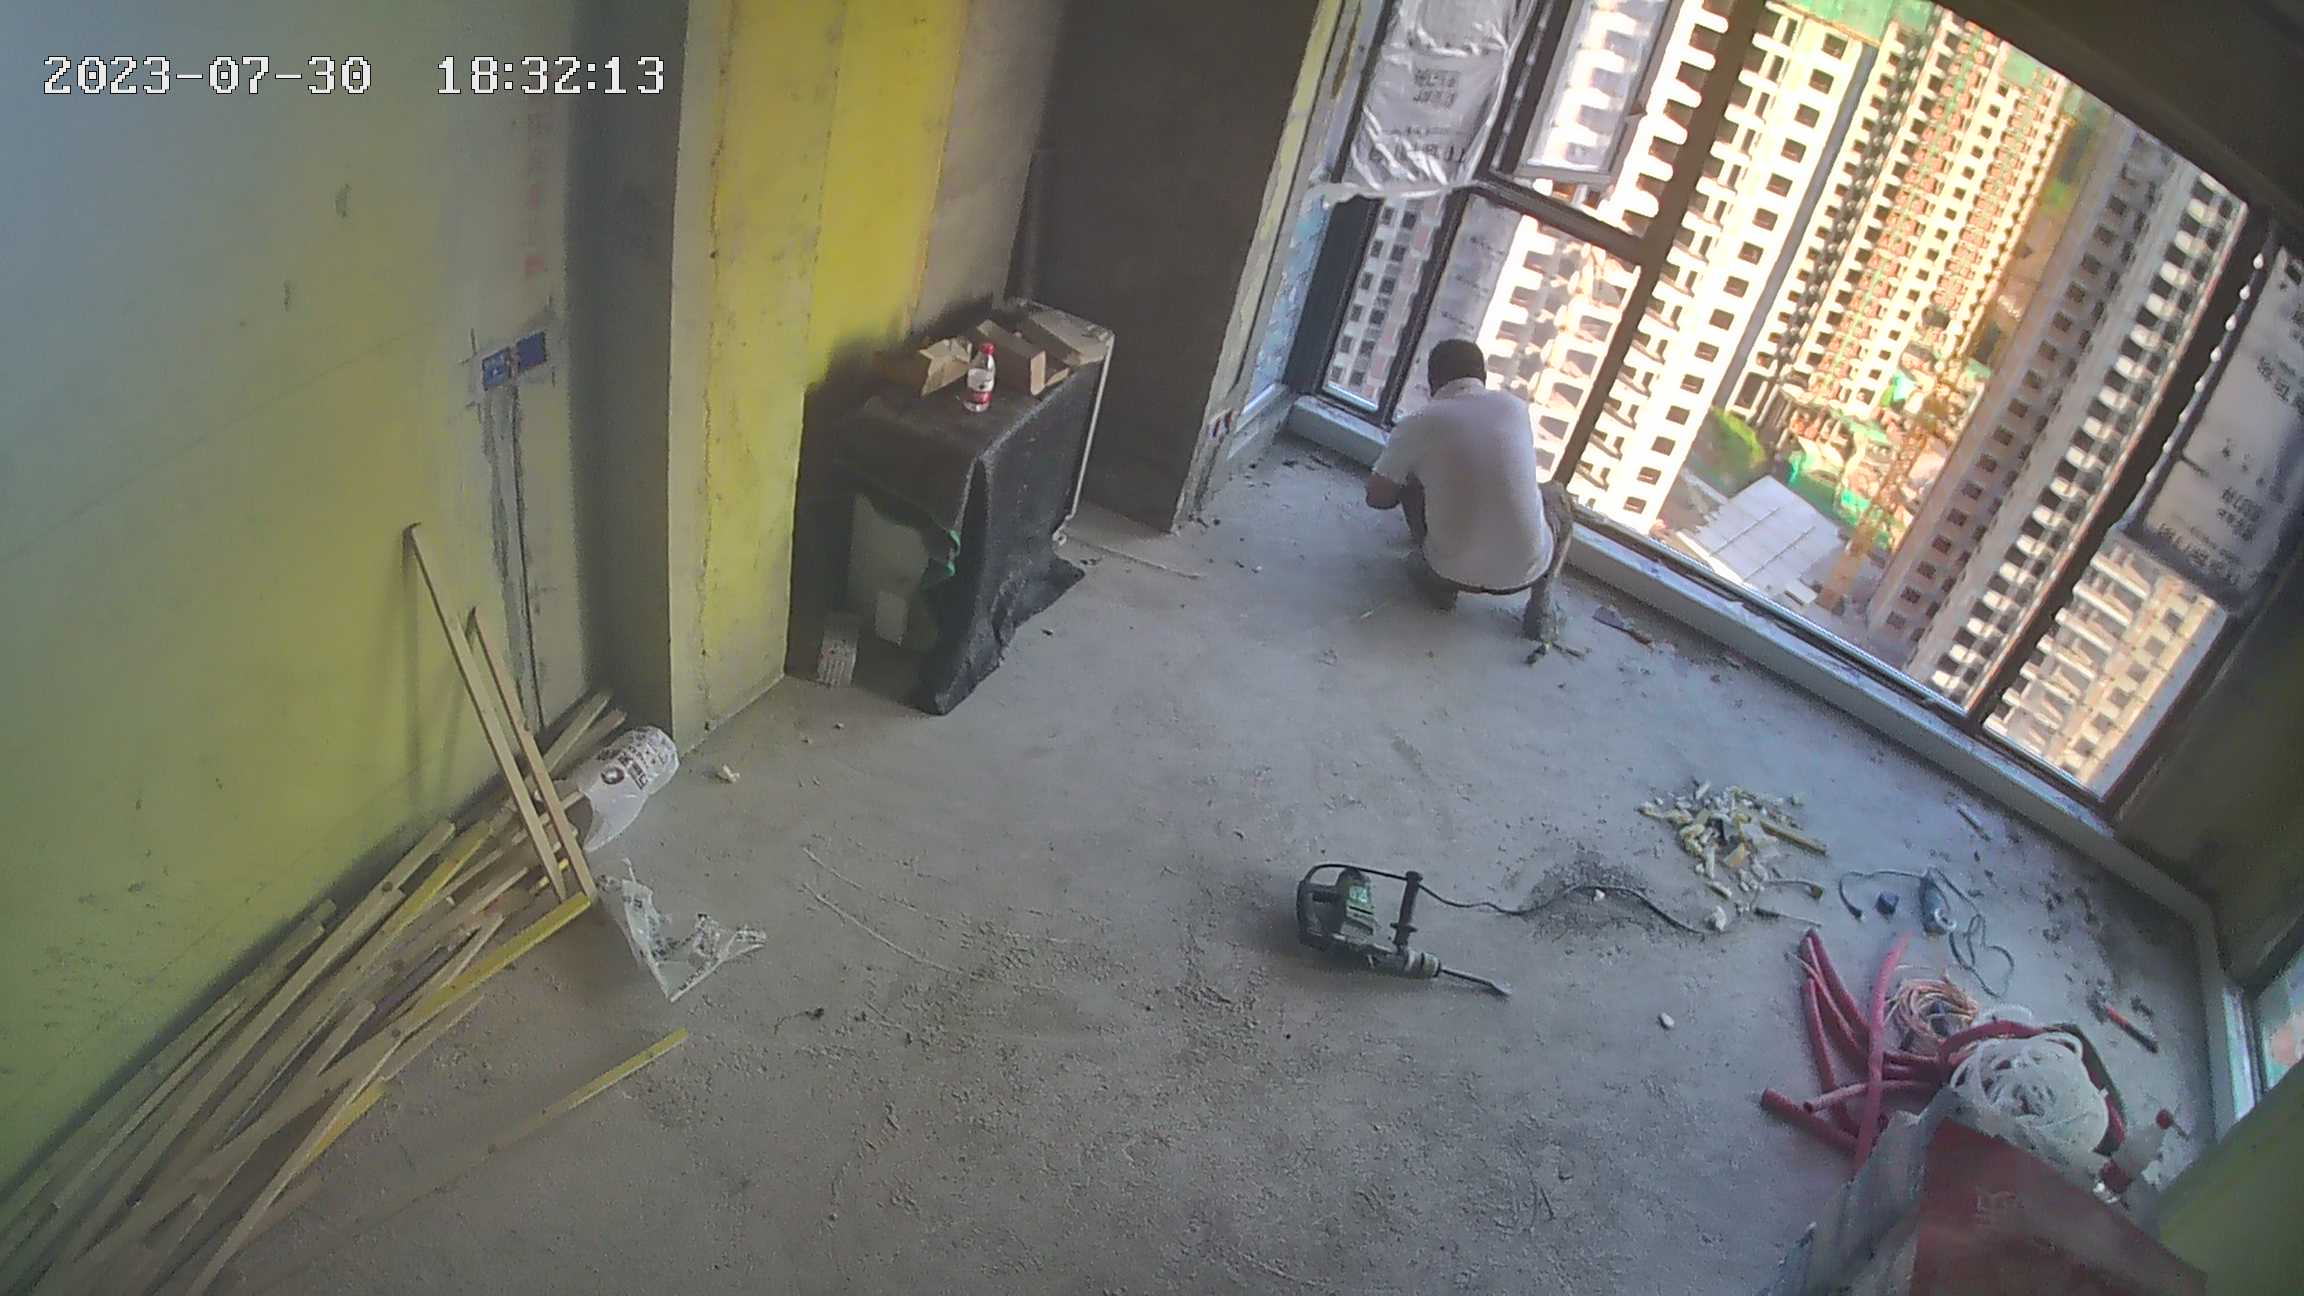people: (1351, 336, 1582, 642)
window: (1342, 7, 2290, 815)
